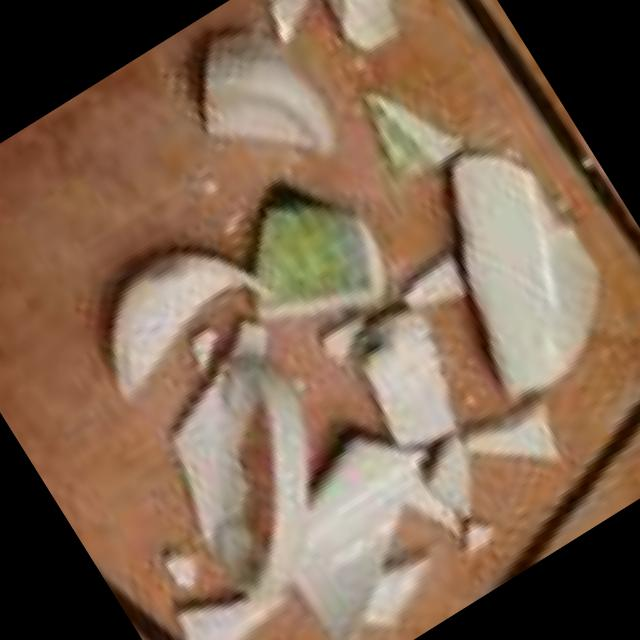PecahanKaca: (0, 58, 640, 640), (385, 122, 640, 414), (212, 165, 410, 364), (167, 2, 356, 205)
